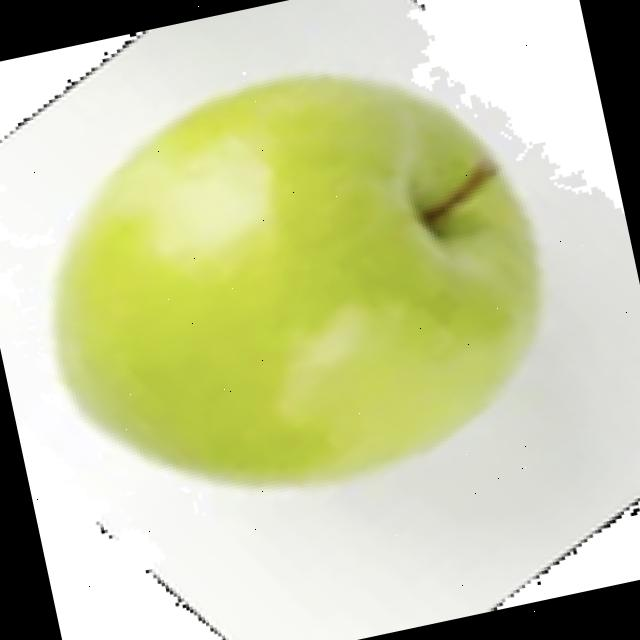apple: (45, 46, 548, 493)
